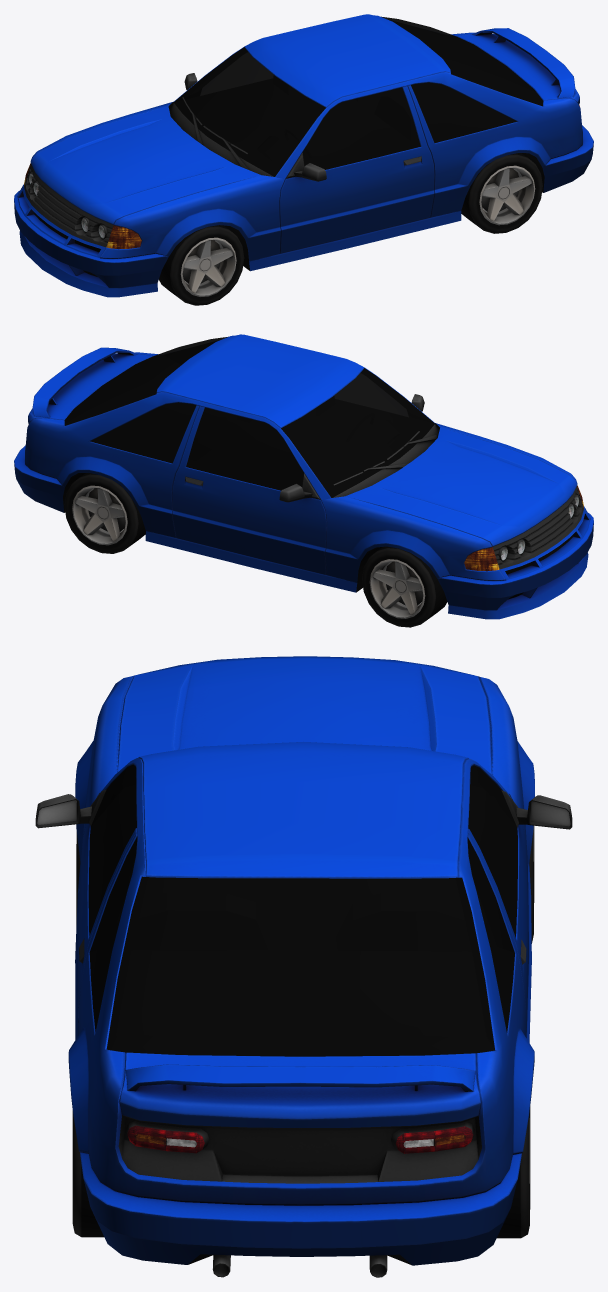
The model's file is muscle.glb.
3 renders of one model, top to bottom at view 1: azimuth 30°, elevation 25°; view 2: azimuth 150°, elevation 25°; view 3: azimuth 270°, elevation 25°, orthographic. The views are drawn at different scales.
Visible parts, largest first — view 1: Coupe Body, Wheel_F, Wheel_F001; view 2: Coupe Body, Wheel_F002, Wheel_F003; view 3: Coupe Body, Wheel_F003, Wheel_F001.
Part boxes in pixels (x1=…): Coupe Body: x1=14, y1=14, x2=593, y2=297; Wheel_F: x1=159, y1=225, x2=244, y2=305; Wheel_F001: x1=461, y1=153, x2=542, y2=233; Coupe Body: x1=14, y1=334, x2=593, y2=619; Wheel_F002: x1=362, y1=546, x2=447, y2=627; Wheel_F003: x1=64, y1=473, x2=145, y2=553; Coupe Body: x1=35, y1=656, x2=572, y2=1277; Wheel_F003: x1=497, y1=1106, x2=530, y2=1238; Wheel_F001: x1=72, y1=1111, x2=103, y2=1237.
Bounding box in the file's own units: 5.58 × 1.68 × 2.48.
4 materials, 3 textured.
